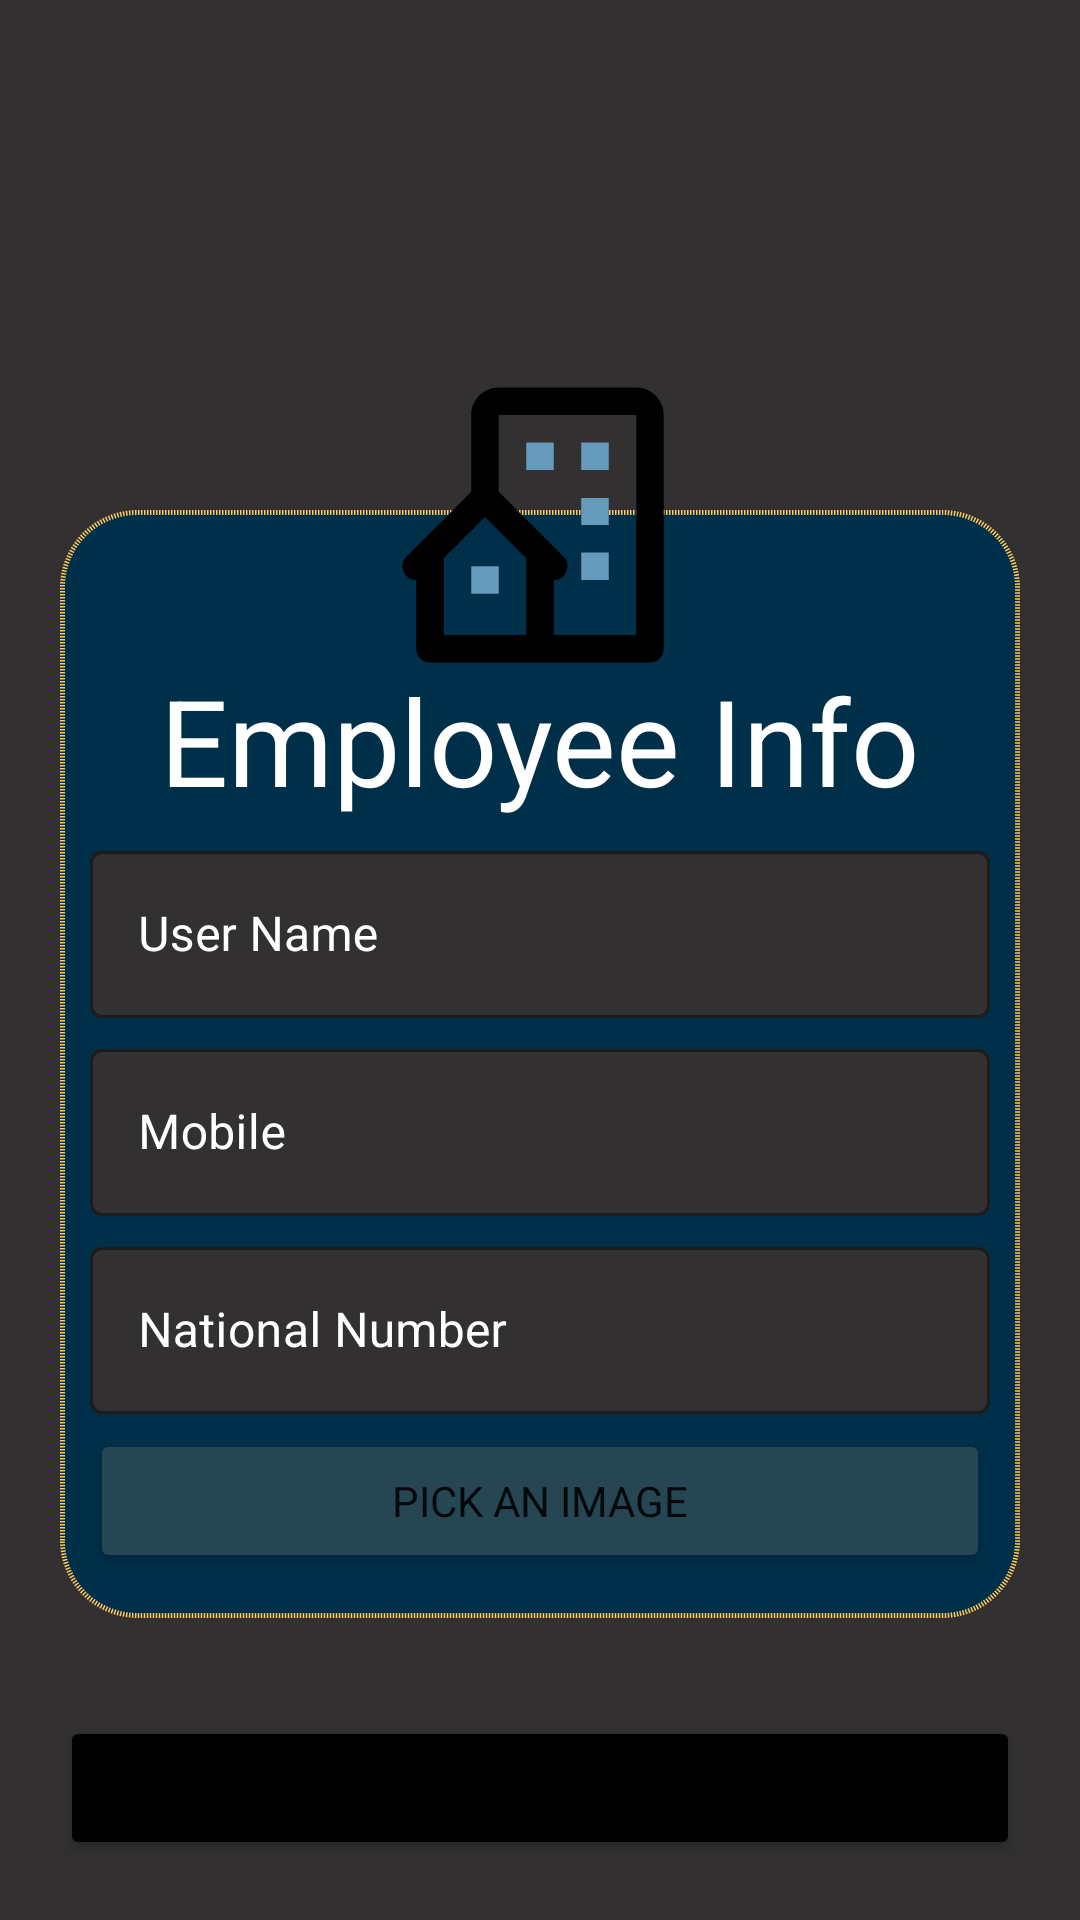

Where to tap for icons on this 1080px x 1920px app screen, as [x,y]:
house: [540,525]
